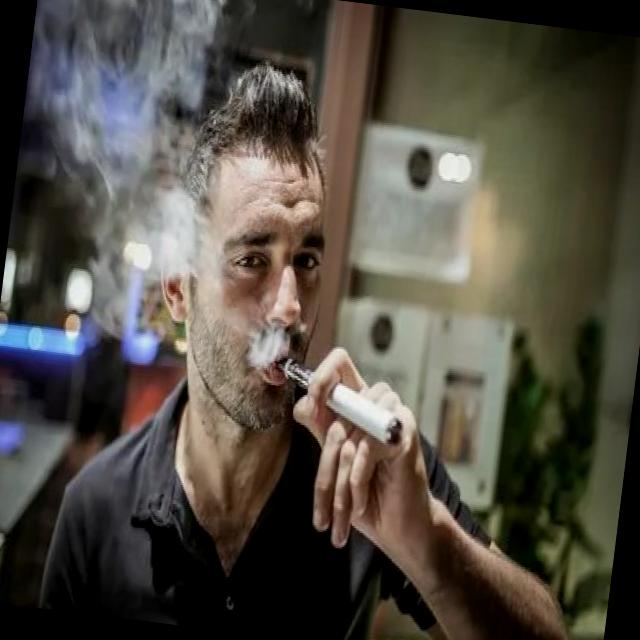cigarette: (262, 354, 412, 451)
